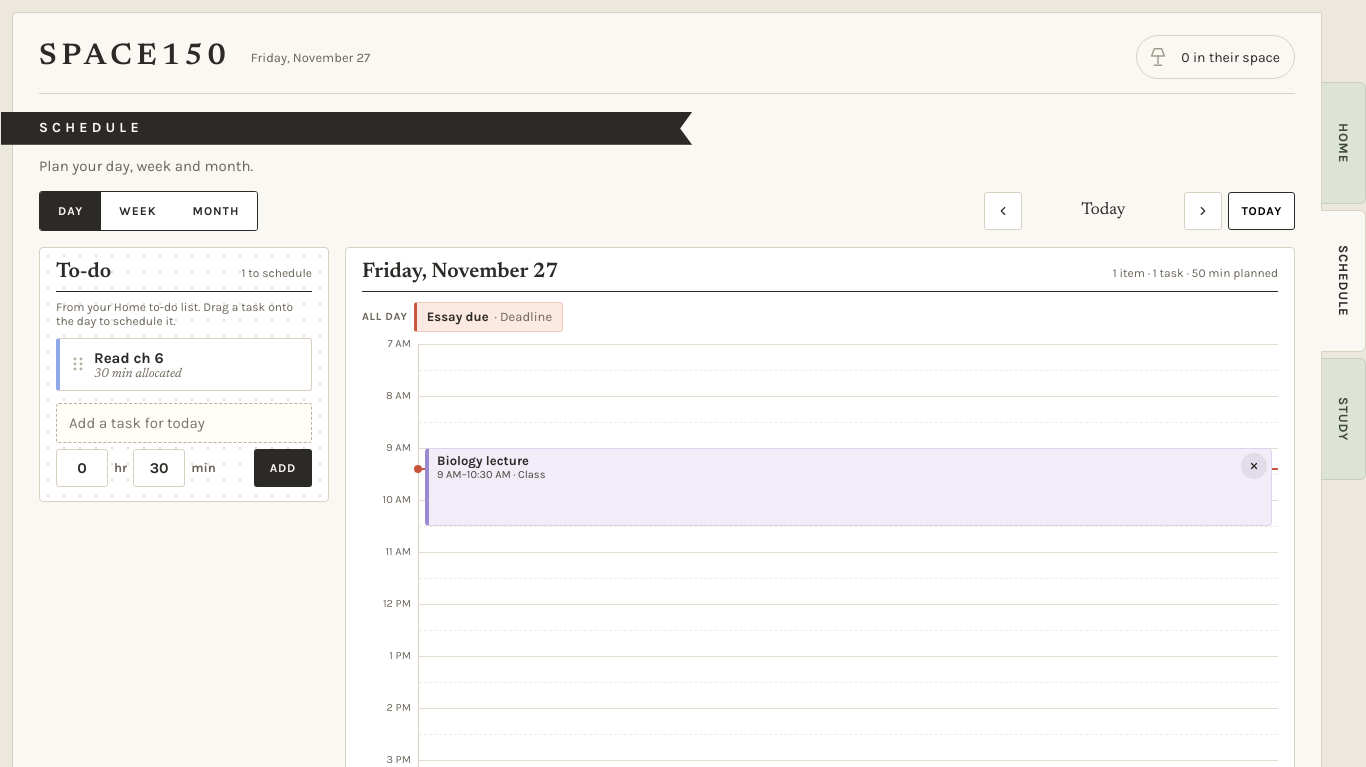
Test case: the to-do list stays in the tray on later days; a task leaves it once scheduled
Click the button named "Next day": [1203, 211] box [1184,192,1222,230]
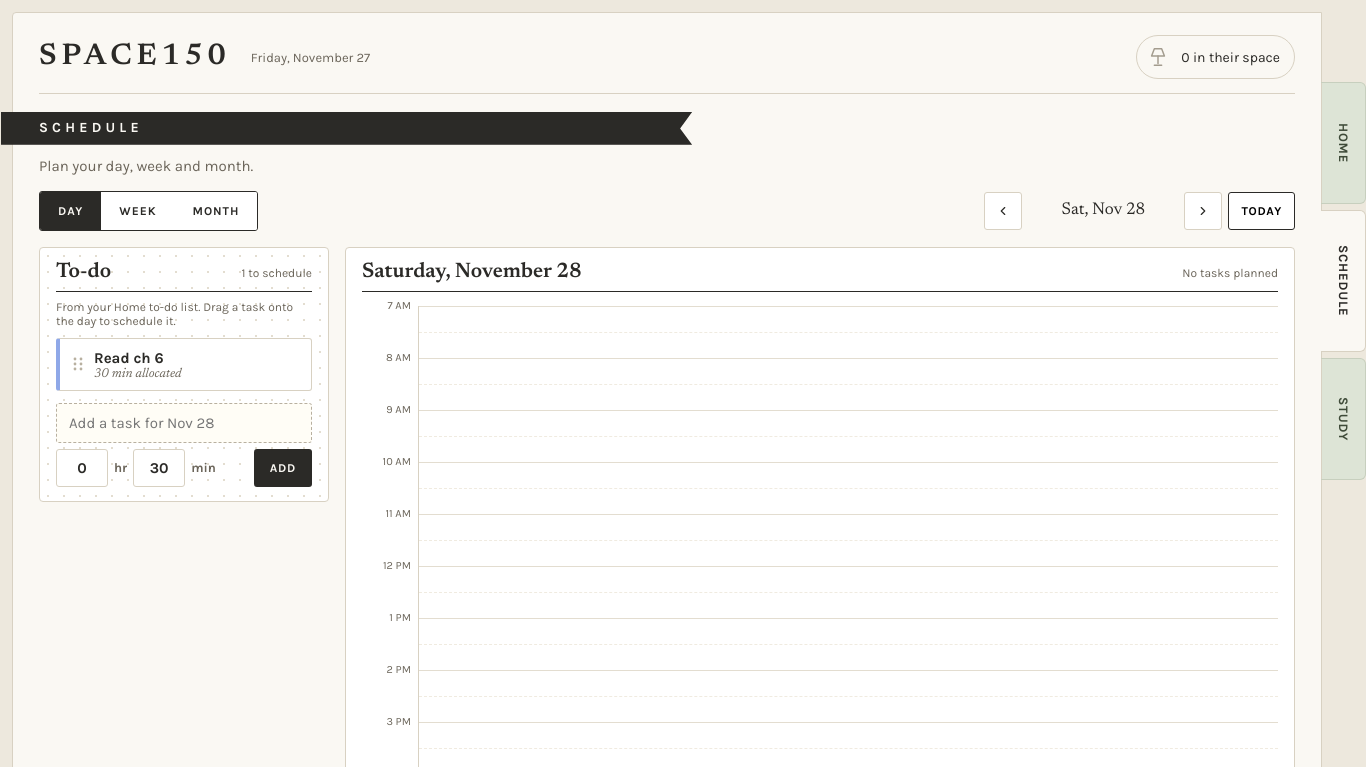
Expected: the element named "Tasks to schedule" shows "Read ch 6", [94,349,164,367]
In the field named "New task for this day": [184, 423] box [56,403,312,443], type "Return library books"
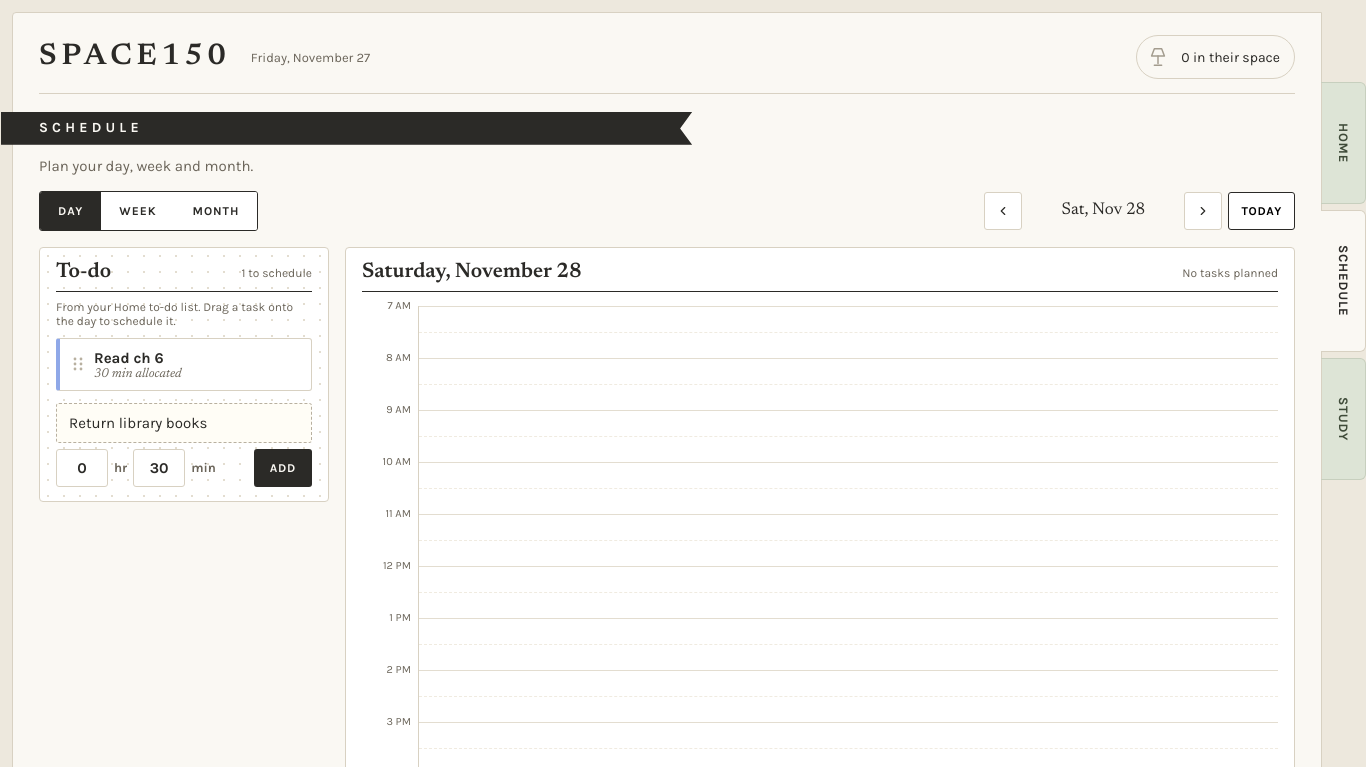
Press Enter in the field named "New task for this day", box [56,403,312,443]
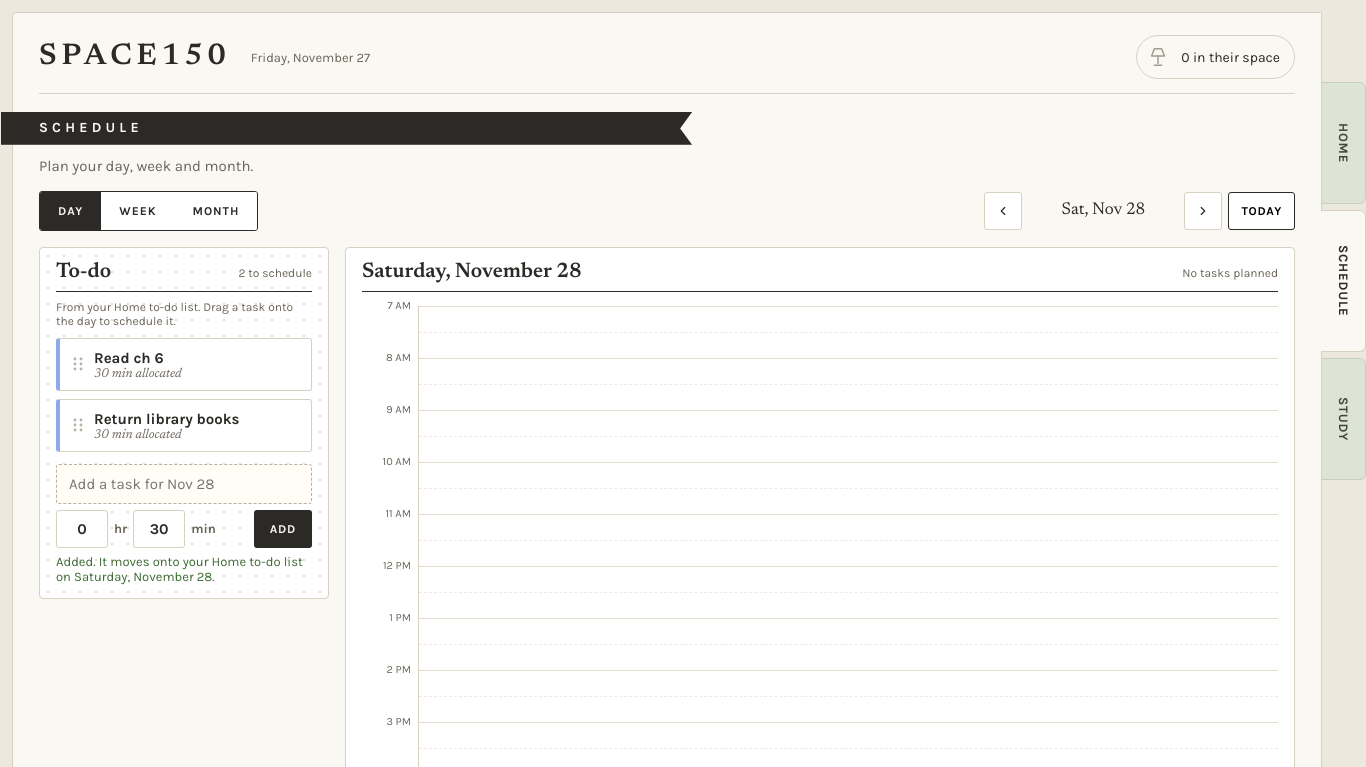
Now the element named "Tasks to schedule" shows "Return library books", box [94,410,240,428]
Click the button named "Next day": [1203, 211] box [1184,192,1222,230]
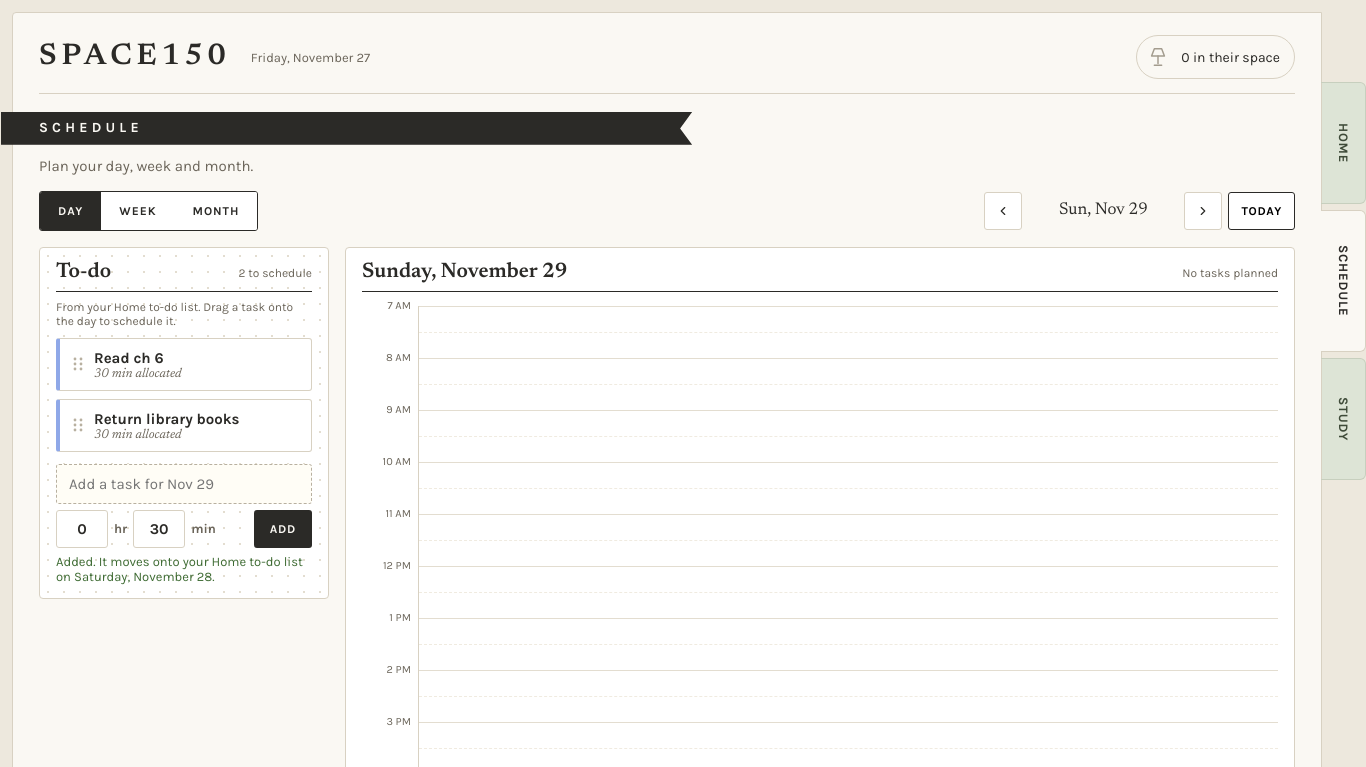
Expected: the element named "Tasks to schedule" shows "Read ch 6", [94,349,164,367]
Now the element named "Tasks to schedule" shows "Return library books", box [94,410,240,428]
Click the button named "Previous day": [1003, 211] box [984,192,1022,230]
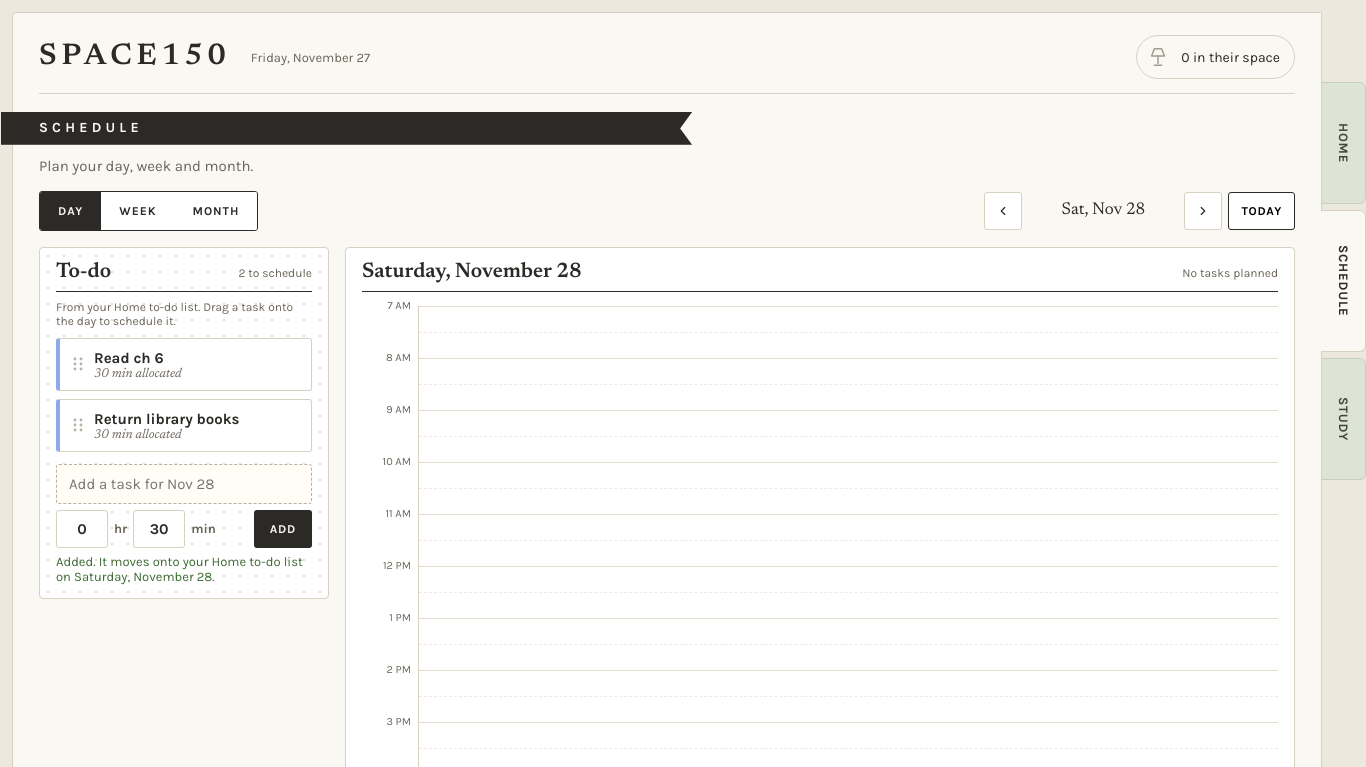
Click the button named "Previous day": [1003, 211] box [984,192,1022,230]
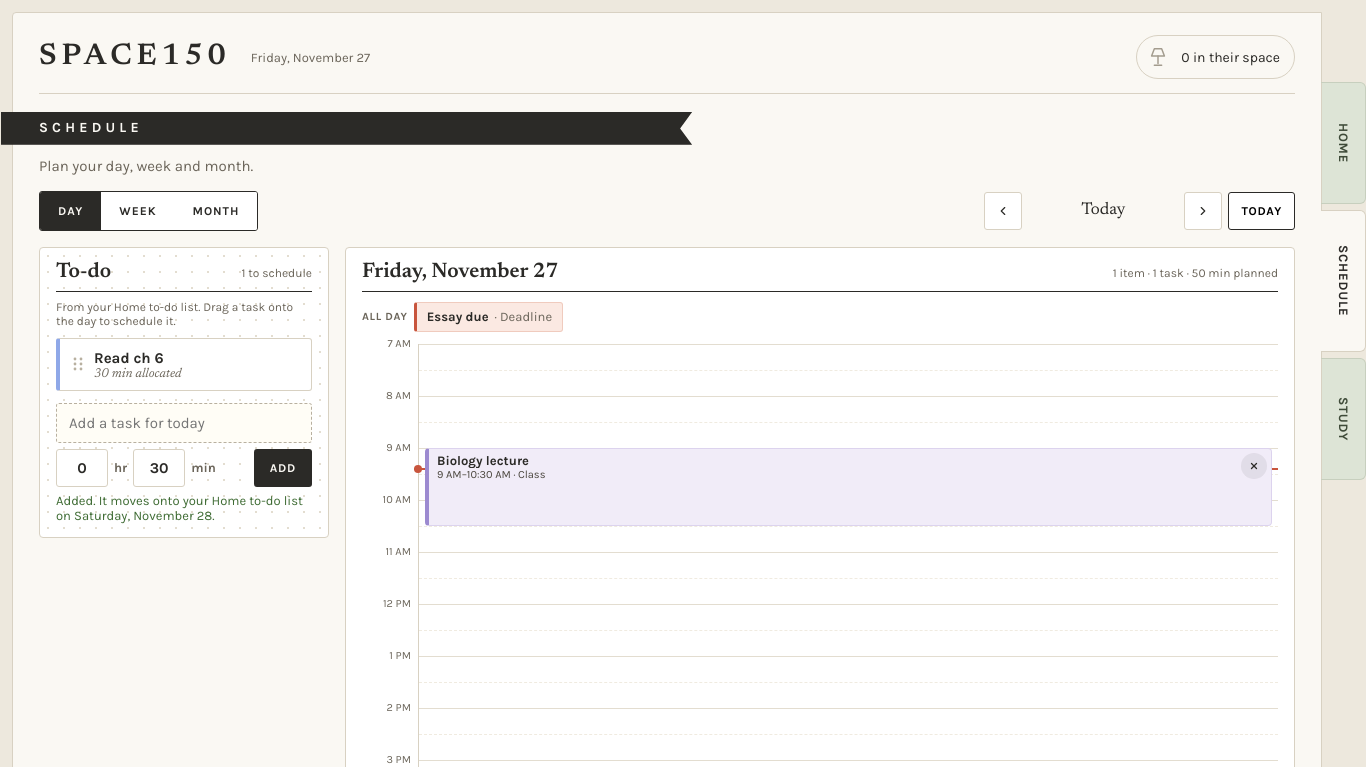
Expected: the element named "Tasks to schedule" shows "Read ch 6", [94,349,164,367]
Now the button named "Tasks to schedule" no longer shows "Return library books"
